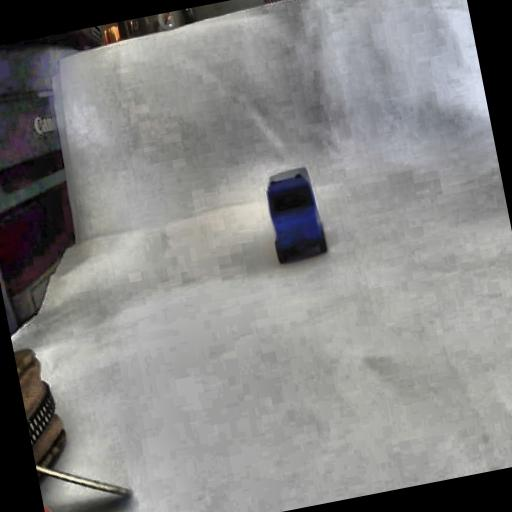police car: (260, 170, 331, 268)
